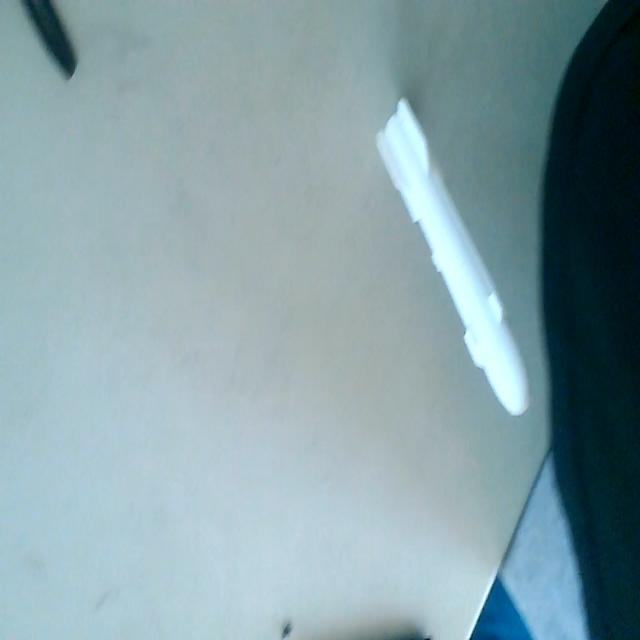Rocket: (374, 92, 530, 419)
